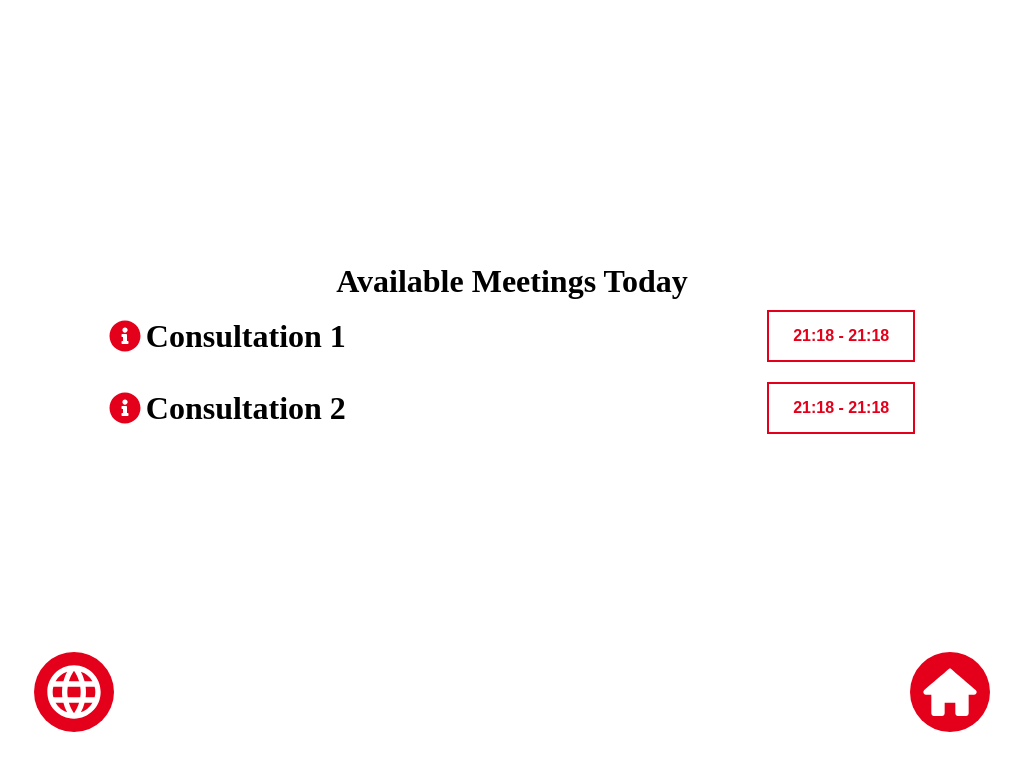
Test case: opens confirmation modal on book button click
The image size is (1024, 768).
Click the button "21:18 - 21:18" in the row of "Consultation 1" at (841, 336), box [767,310,915,362]
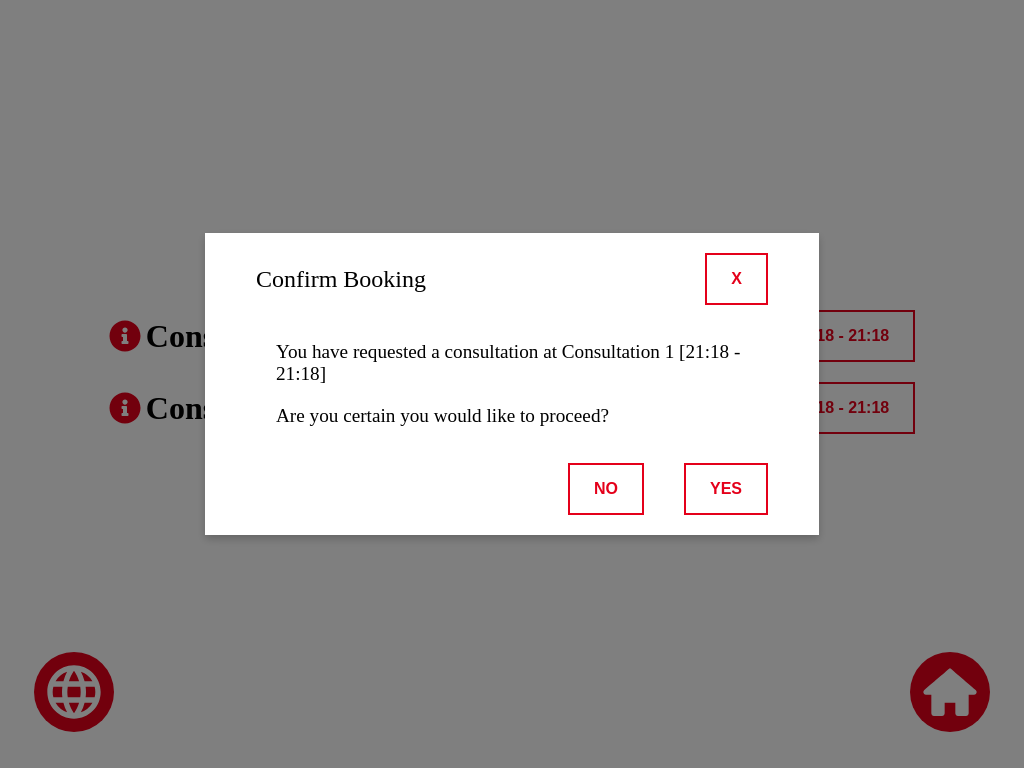
Result: the text "Confirm Booking X" is shown at [256,253,768,305]
